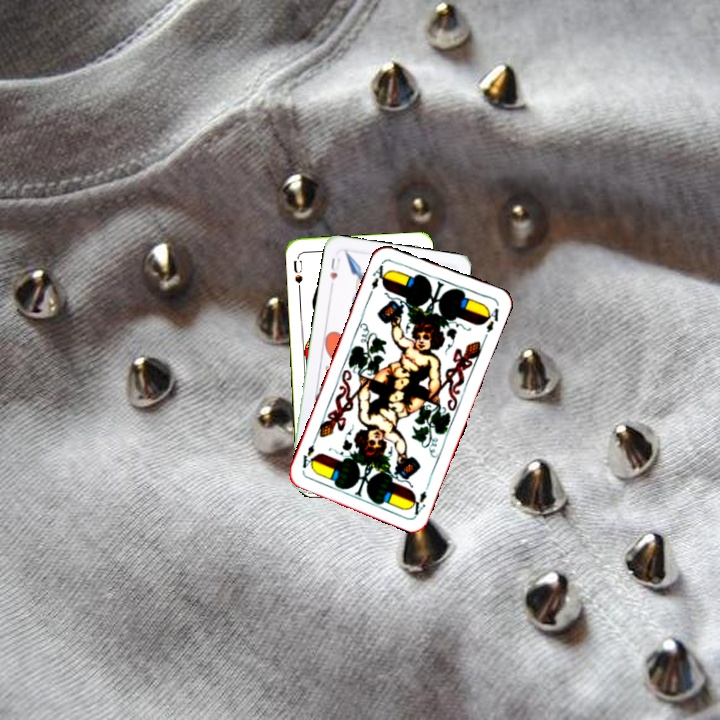EA: (366, 258, 391, 297), (407, 487, 429, 518)
HU: (326, 253, 342, 283)
SU: (289, 256, 305, 293)
